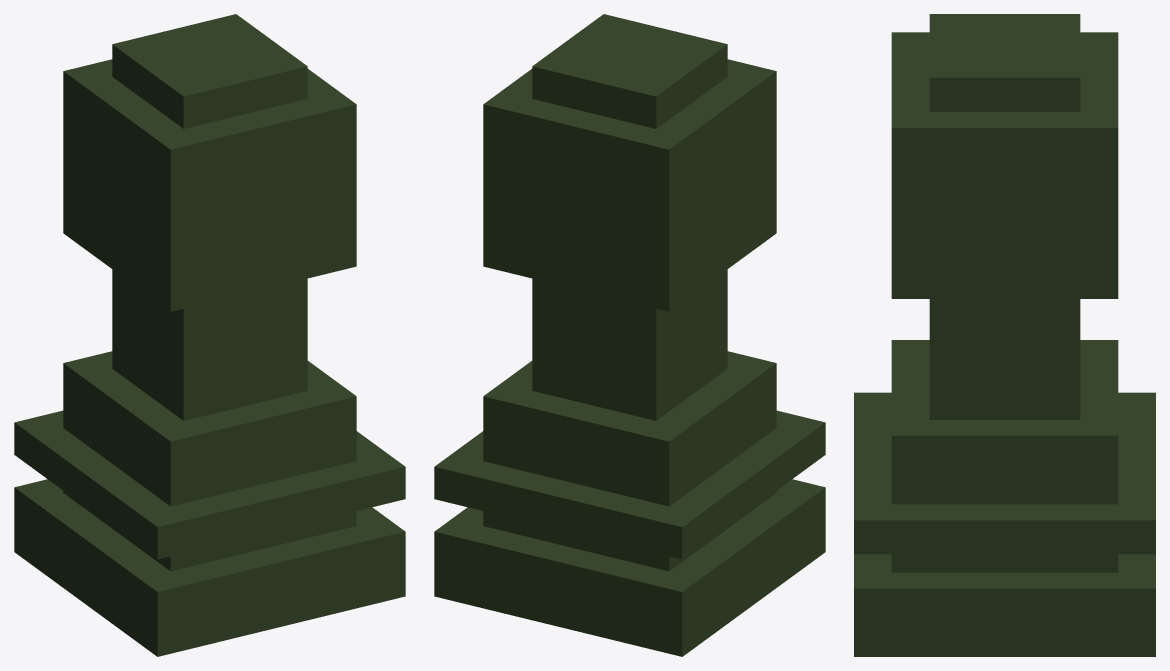
File: token-v1-green.gltf
3 renders of one model, left to right at view 1: azimuth 30°, elevation 25°; view 2: azimuth 150°, elevation 25°; view 3: azimuth 270°, elevation 25°, orthographic. The views are drawn at different scales.
Visible parts, largest first — view 1: Untitled; view 2: Untitled; view 3: Untitled.
Part boxes in pixels (box(x1,y1,x2,y2)): Untitled: box(14, 14, 405, 656); Untitled: box(434, 14, 825, 656); Untitled: box(854, 14, 1155, 656).
Bounding box in the file's own units: 0.8 × 1.6 × 0.8.
Materials: 1 (1 with a texture image).
